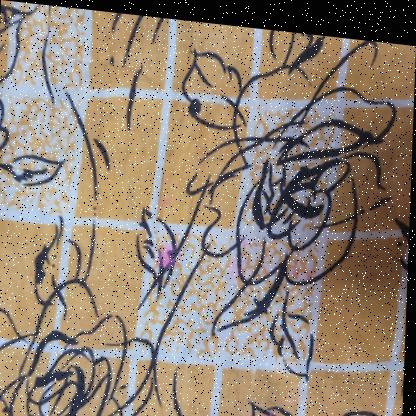spot: (228, 244, 251, 281), (286, 258, 317, 283), (152, 242, 179, 264), (158, 188, 174, 205), (331, 412, 392, 416), (262, 405, 280, 416)
